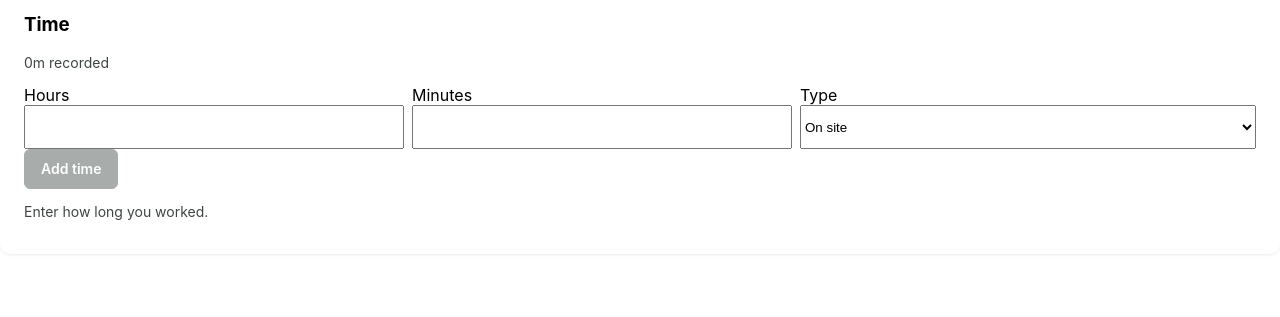
Test: WOL-2: one press records the hours once › online-only (no offline runtime): pressing again after a lost answer REPLAYS -- one entry
The width and height of the screenshot is (1280, 317).
Type "2" into the number field labelled "Hours" at (214, 127), box [24, 105, 404, 149]
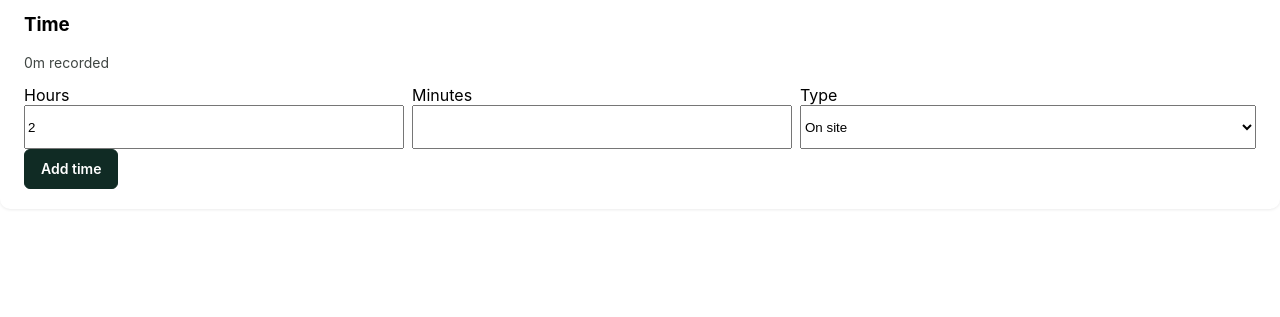
Type "0" into the number field labelled "Minutes" at (602, 127), box [412, 105, 792, 149]
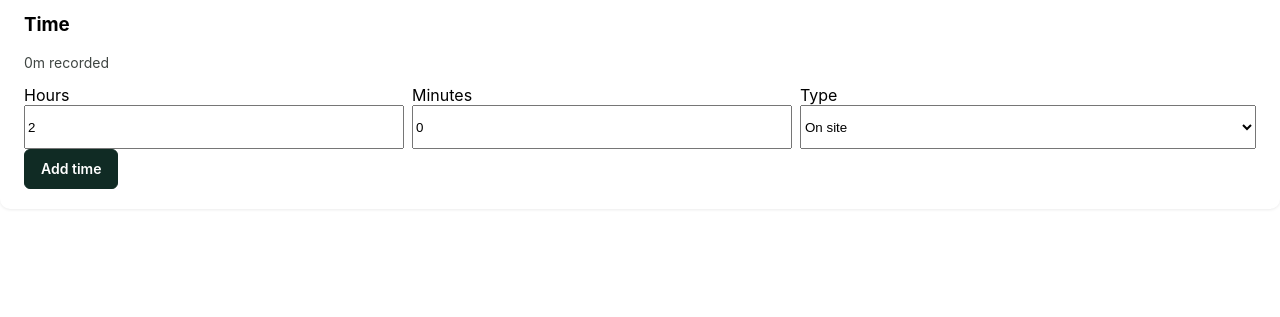
Click the button "Add time" at (71, 169), box [24, 149, 118, 189]
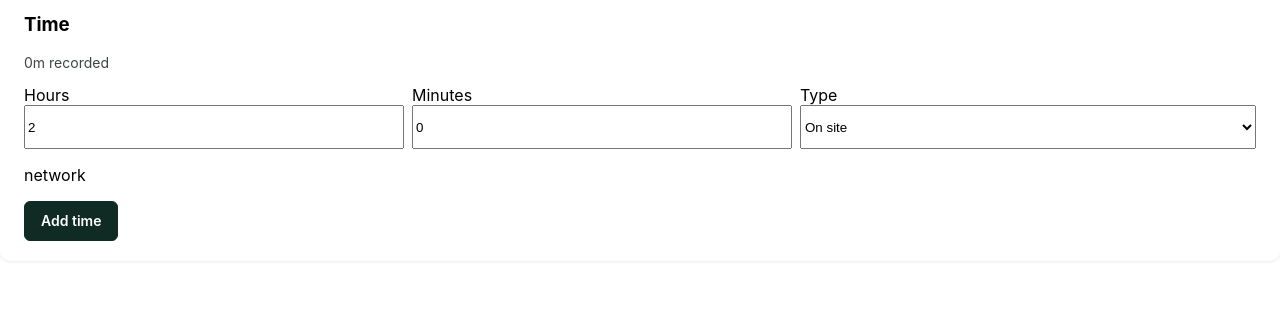
Click the button "Add time" at (71, 221), box [24, 201, 118, 241]
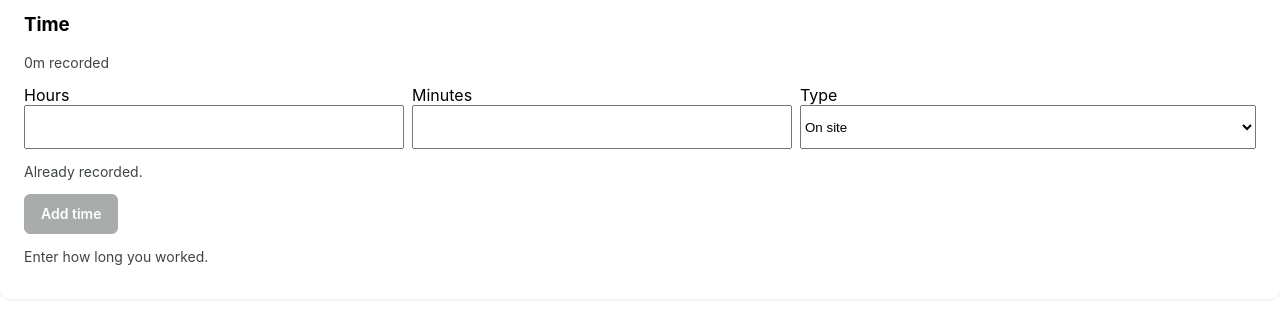
Expected: the text "Already recorded." is shown, [24, 163, 143, 180]
